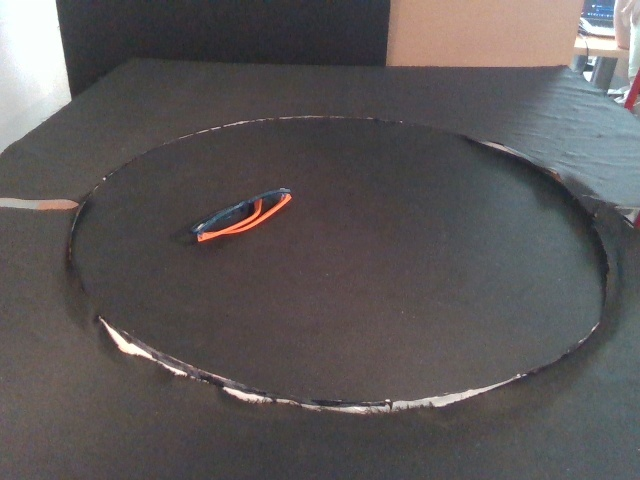glasses: (188, 186, 293, 243)
